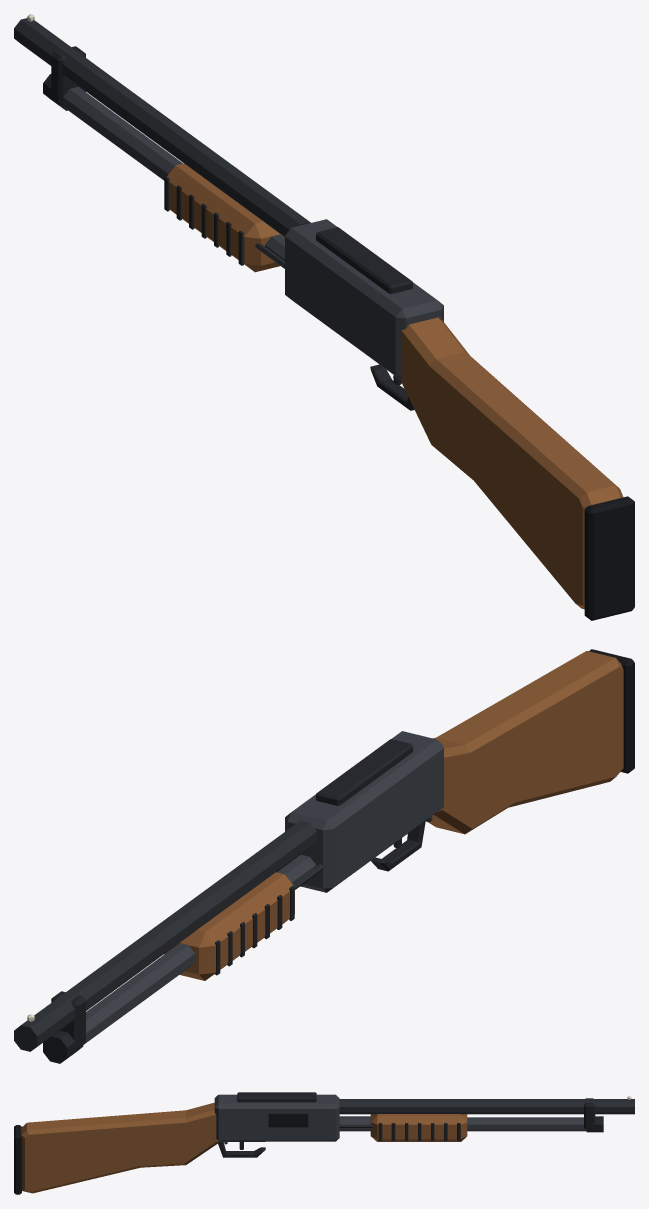
3 renders of one model, top to bottom at view 1: azimuth 30°, elevation 25°; view 2: azimuth 150°, elevation 25°; view 3: azimuth 270°, elevation 25°, orthographic. The views are drawn at different scales.
Parts seen in each view (by area): view 1: shotgun_body, shotgun_forend, shotgun_rail; view 2: shotgun_body, shotgun_forend, shotgun_rail; view 3: shotgun_body, shotgun_forend, shotgun_rail.
Part boxes in pixels (box(x1,y1,x2,y2)): shotgun_body: box(14, 14, 634, 620); shotgun_forend: box(164, 163, 284, 272); shotgun_rail: box(316, 227, 412, 293); shotgun_body: box(14, 649, 634, 1063); shotgun_forend: box(164, 861, 324, 980); shotgun_rail: box(316, 739, 412, 805); shotgun_body: box(14, 1094, 634, 1194); shotgun_forend: box(339, 1114, 467, 1141); shotgun_rail: box(237, 1092, 316, 1102).
Bounding box in the file's own units: 0.0574 × 0.184 × 1.09.
